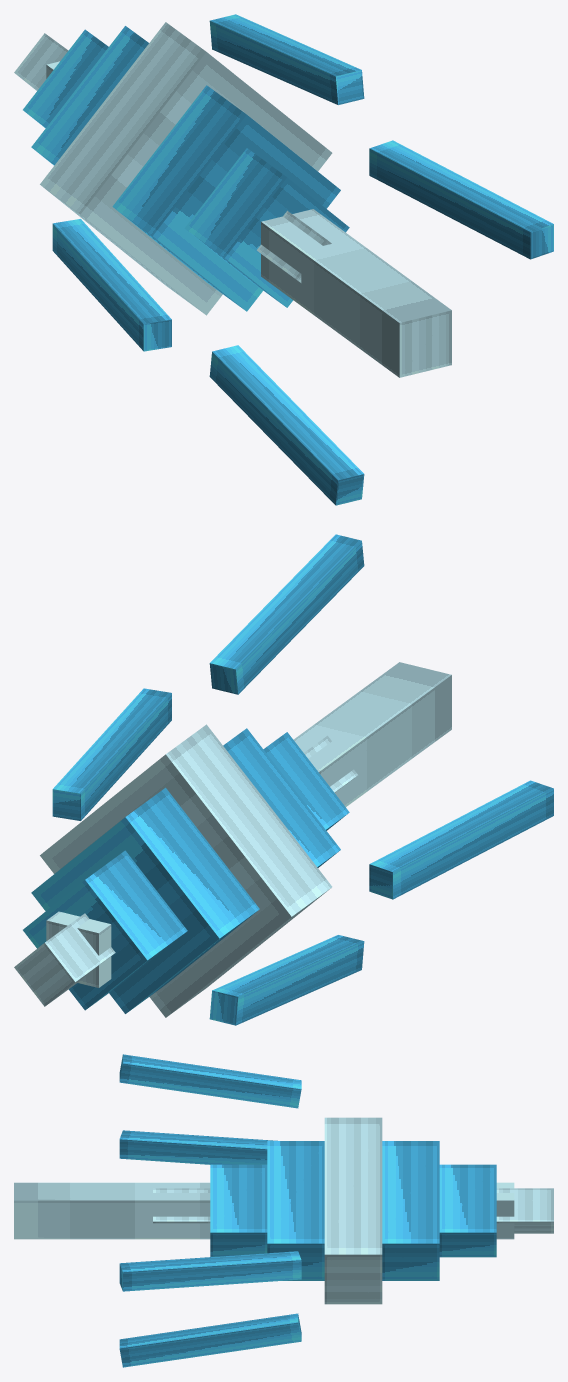
File: throne_shot_blue.gltf
3 views of the same model, one above another, from view 1: azimuth 30°, elevation 25°; view 2: azimuth 150°, elevation 25°; view 3: azimuth 270°, elevation 25° (orthographic). The views are drawn at different scales.
Visible parts, largest first — view 1: core_mesh; view 2: core_mesh; view 3: core_mesh.
Boxes of the visible parts, x1,y1,x2,y2 form: core_mesh: (14,14,553,505); core_mesh: (14,534,553,1025); core_mesh: (14,1054,553,1367).
Size of the model in its own units: 0.587 by 0.587 by 0.9444.
1 material, 1 textured.
